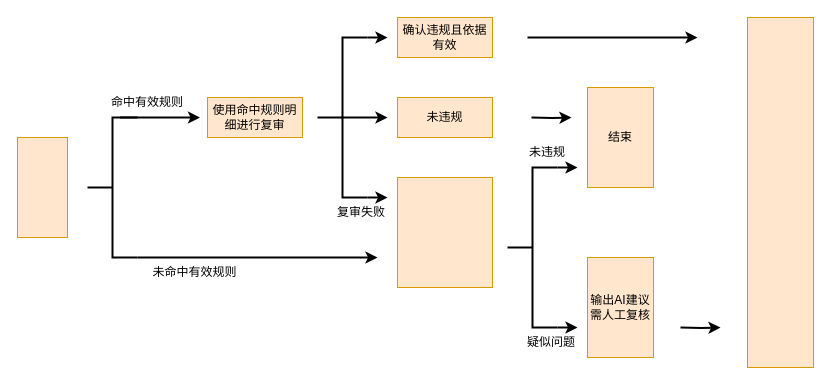
Some shapes in this 831 by 385 pixel diagram are drawn without their labels. Each missing label, with the box of its shape:
合并汇总: (746, 16, 814, 368)
复审: (16, 136, 68, 238)
通用知识复审: (396, 176, 492, 288)
